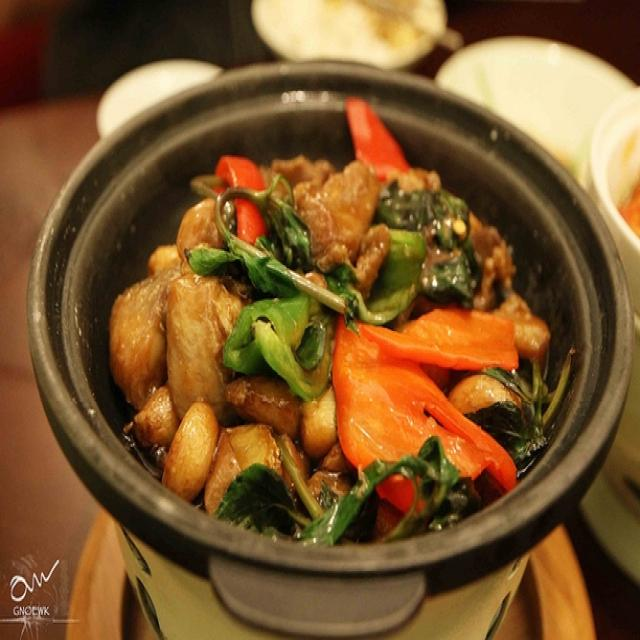鸡肉料理 含炸鸡: (36, 58, 621, 607)
